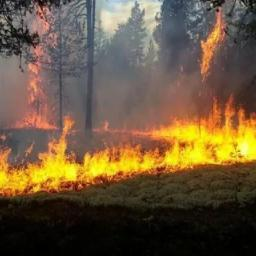Medium fire: (4, 0, 256, 206), (0, 0, 250, 150)
